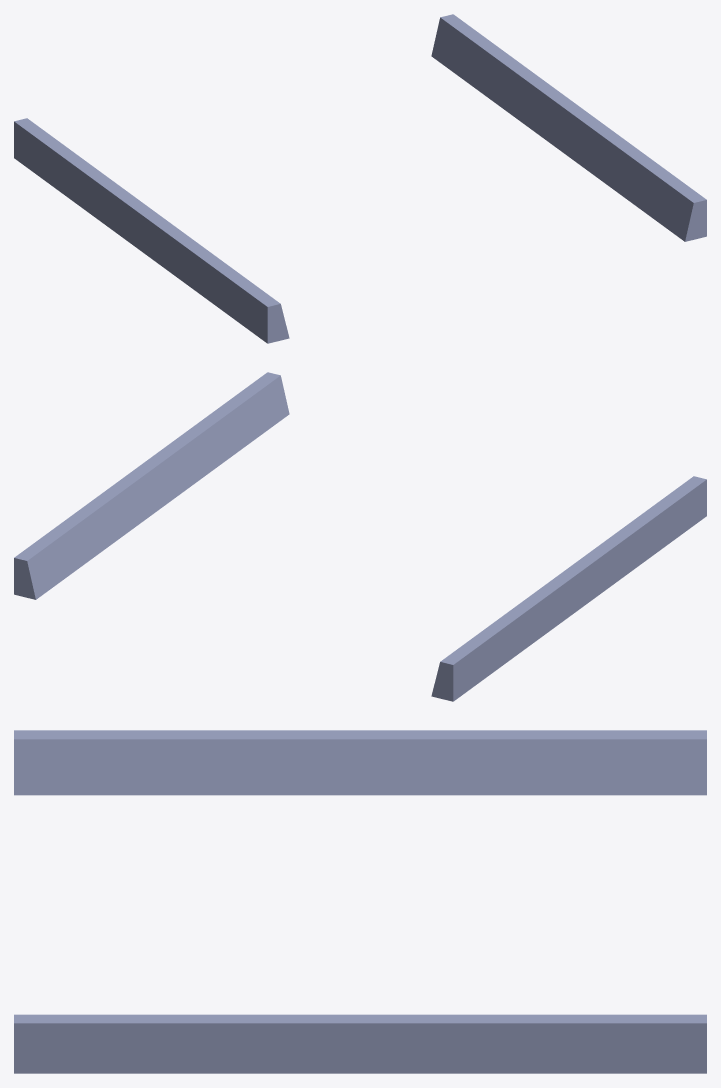
The model's file is road-straight-barrier.glb.
3 views of the same model, one above another, from view 1: azimuth 30°, elevation 25°; view 2: azimuth 150°, elevation 25°; view 3: azimuth 270°, elevation 25° (orthographic). The views are drawn at different scales.
Parts seen in each view (by area): view 1: road-straight-barrier; view 2: road-straight-barrier; view 3: road-straight-barrier.
Boxes of the visible parts, bbox=[...] form: road-straight-barrier: bbox=[14, 14, 706, 343]; road-straight-barrier: bbox=[14, 372, 706, 701]; road-straight-barrier: bbox=[14, 730, 706, 1073].
Size of the model in its own units: 1 by 0.08 by 1.
Materials: 1 (1 with a texture image).
